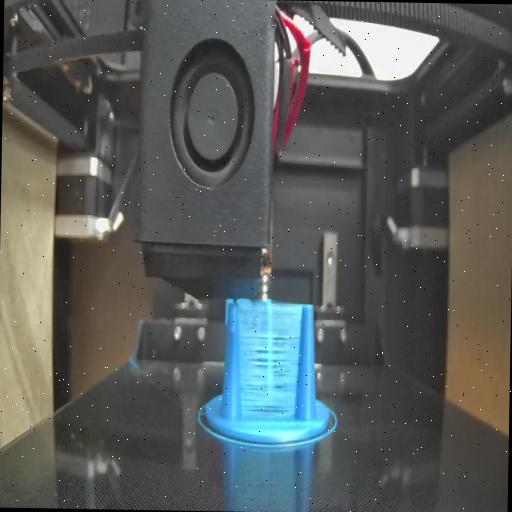stringing: (239, 300, 302, 419)
